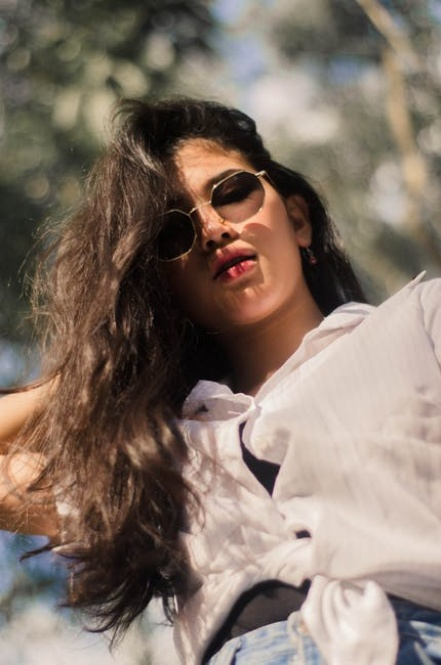face: (143, 140, 300, 328)
